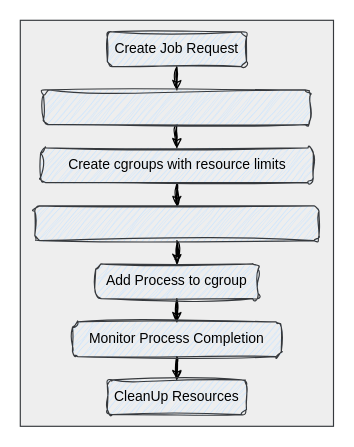
This 354x447 diagram has some shape labels left out. The centre of each missing label's shape, as x and y in pixels:
"Generate Unique ID (Unix Nono)" goes at pixel 176 107.
"Start Process with Stdout/Stderr capture" goes at pixel 176 223.
